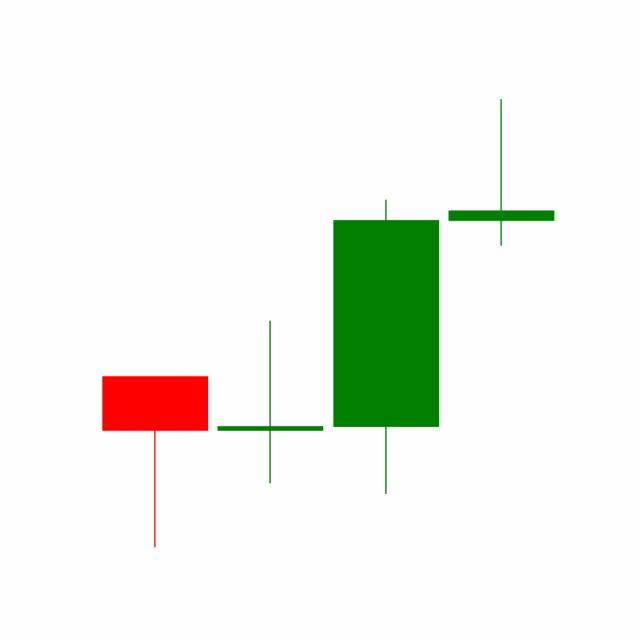Gravestone Doji: (444, 98, 560, 248)
